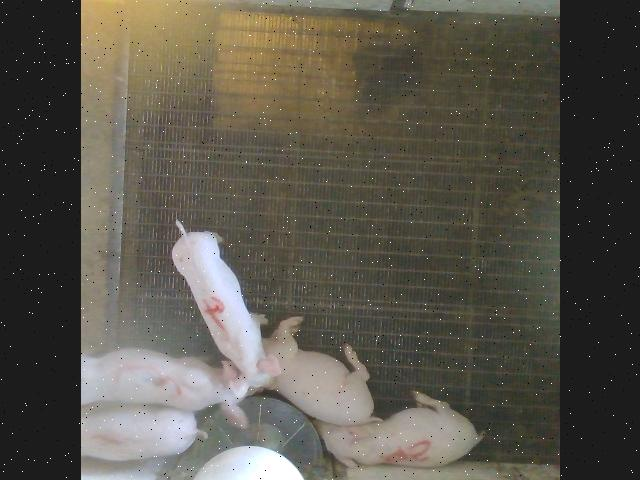pig-1: (82, 406, 206, 461)
pig-3: (82, 349, 246, 429)
pig-4: (172, 220, 280, 398)
pig-5: (315, 391, 482, 468)
